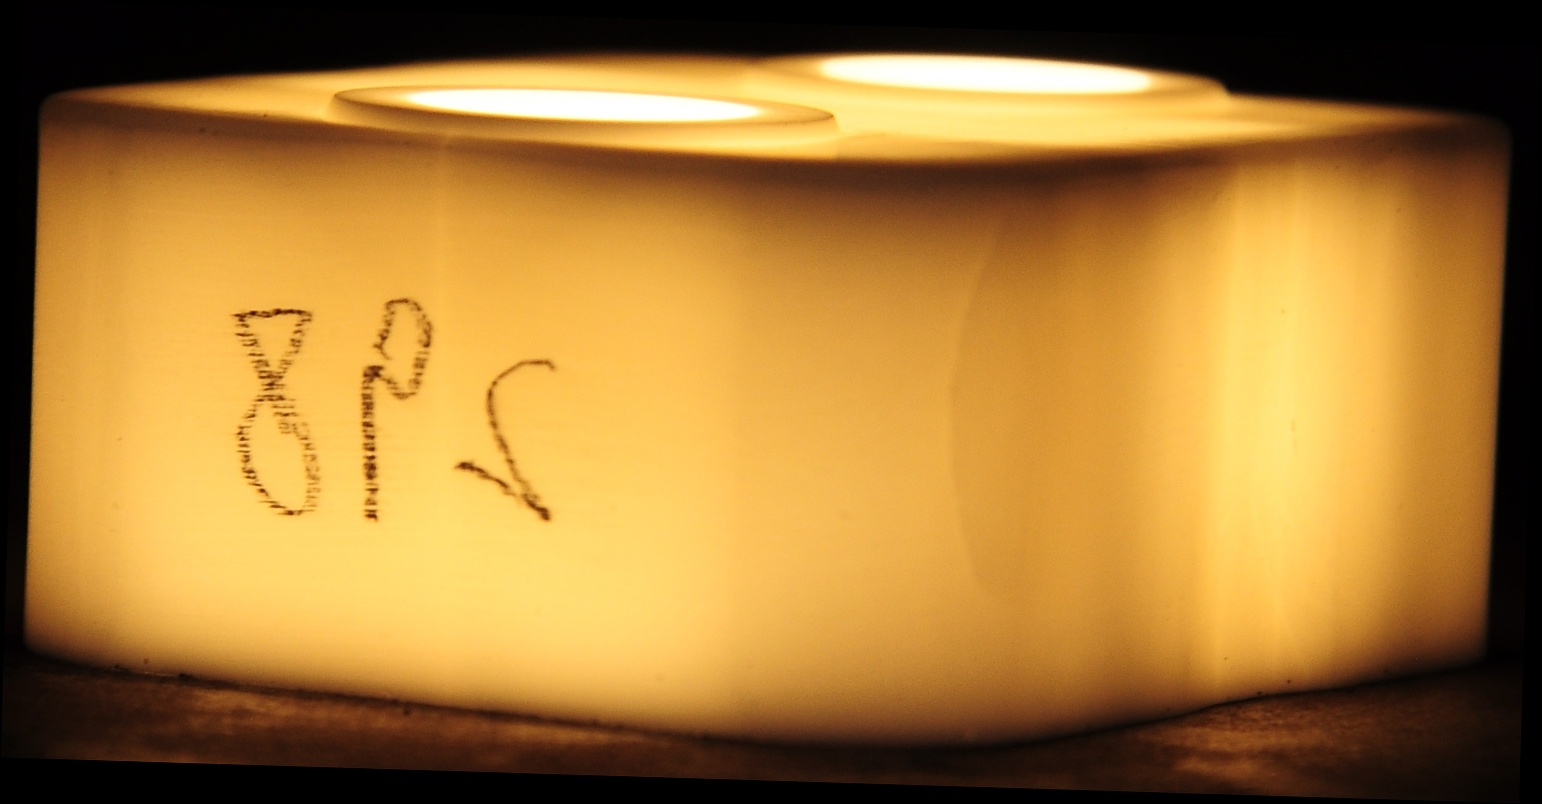flaw: (927, 173, 1048, 629)
